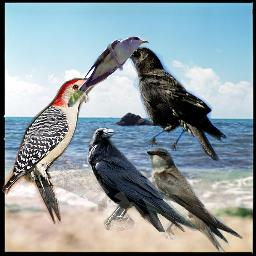Crow: (112, 45, 228, 163), (87, 127, 197, 232)
Cuckoo: (67, 36, 149, 107)
Swallow: (146, 147, 243, 253)
Woodpecker: (1, 74, 107, 225)
